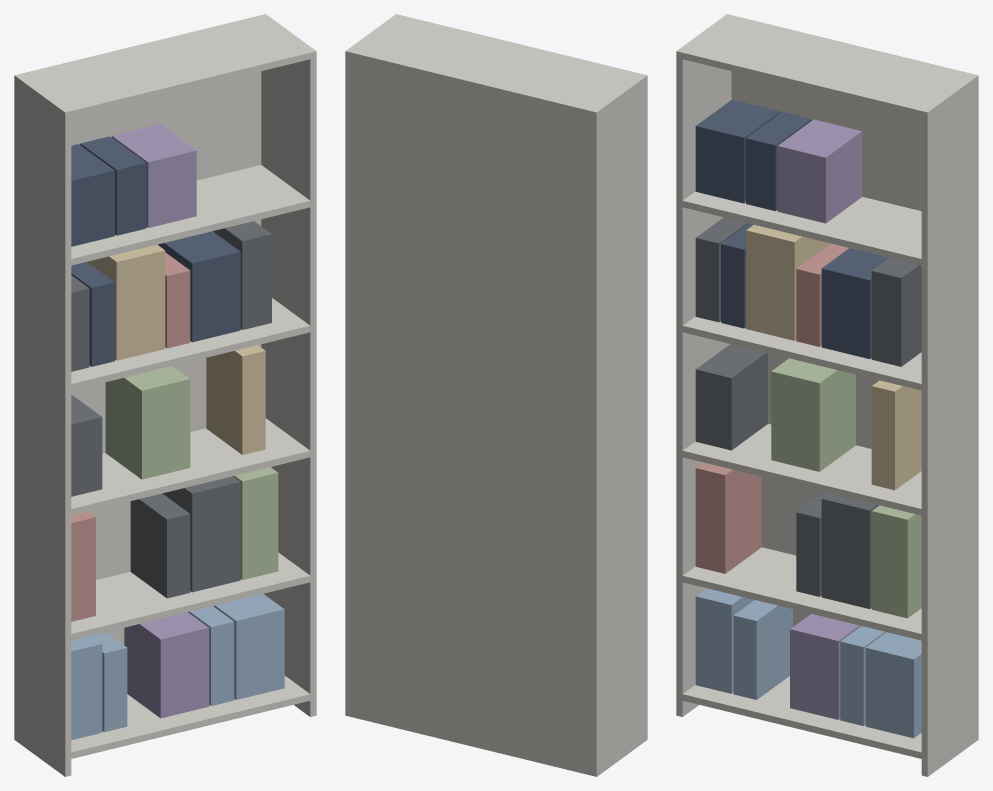
The model's file is bookcase.glb.
3 renders of one model, left to right at view 1: azimuth 30°, elevation 25°; view 2: azimuth 150°, elevation 25°; view 3: azimuth 330°, elevation 25°, orthographic.
Parts seen in each view (by area): view 1: bookcase; view 2: bookcase; view 3: bookcase.
Boxes of the visible parts, left/top/right/bottom form: bookcase: left=14, top=14, right=316, bottom=776; bookcase: left=345, top=14, right=647, bottom=776; bookcase: left=676, top=14, right=978, bottom=776.
Bounding box in the file's own units: 0.8 × 2.02 × 0.28.
